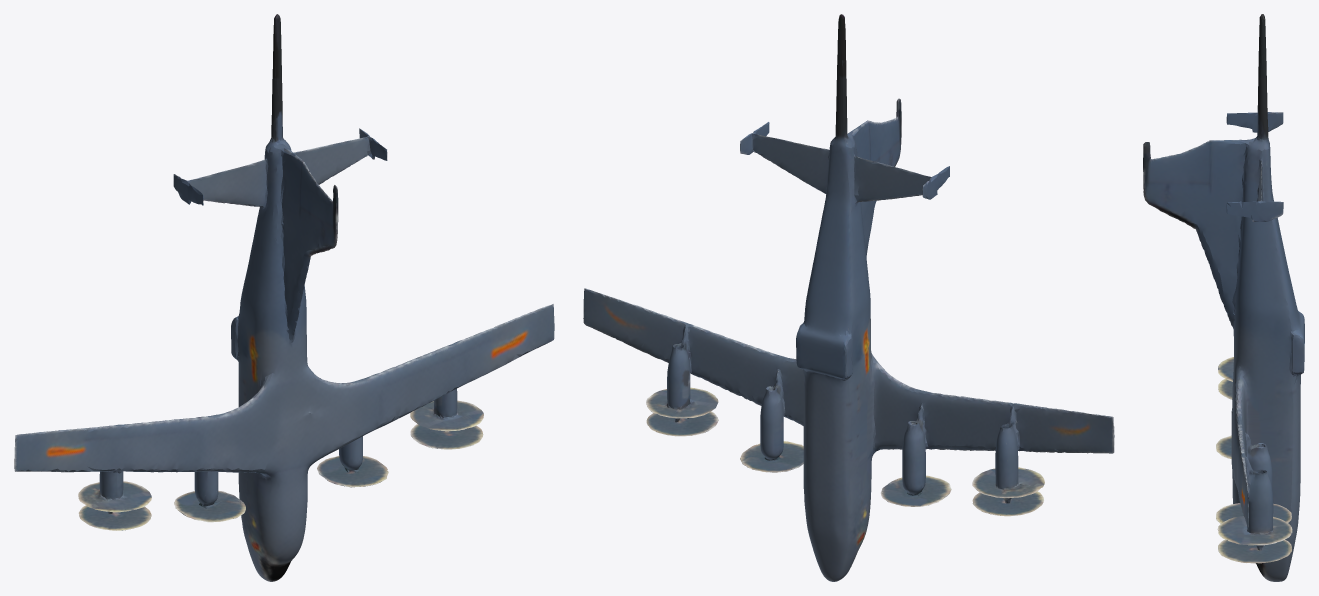
File: Y-9_Medium_Transport_AI_Rodin_before_z_neg90_from_screenshot.glb
The picture shows the model from 3 angles, left to right: view 1: azimuth 30°, elevation 25°; view 2: azimuth 150°, elevation 25°; view 3: azimuth 270°, elevation 25°; orthographic projection.
Parts seen in each view (by area): view 1: Y-9_Medium_Transport; view 2: Y-9_Medium_Transport; view 3: Y-9_Medium_Transport.
Part boxes in pixels (box(x1,y1,x2,y2)): Y-9_Medium_Transport: box(14, 14, 554, 581); Y-9_Medium_Transport: box(583, 14, 1114, 581); Y-9_Medium_Transport: box(1143, 14, 1304, 581).
Bounding box in the file's own units: 1.88 × 1.9 × 0.4905.
1 material, 1 textured.
